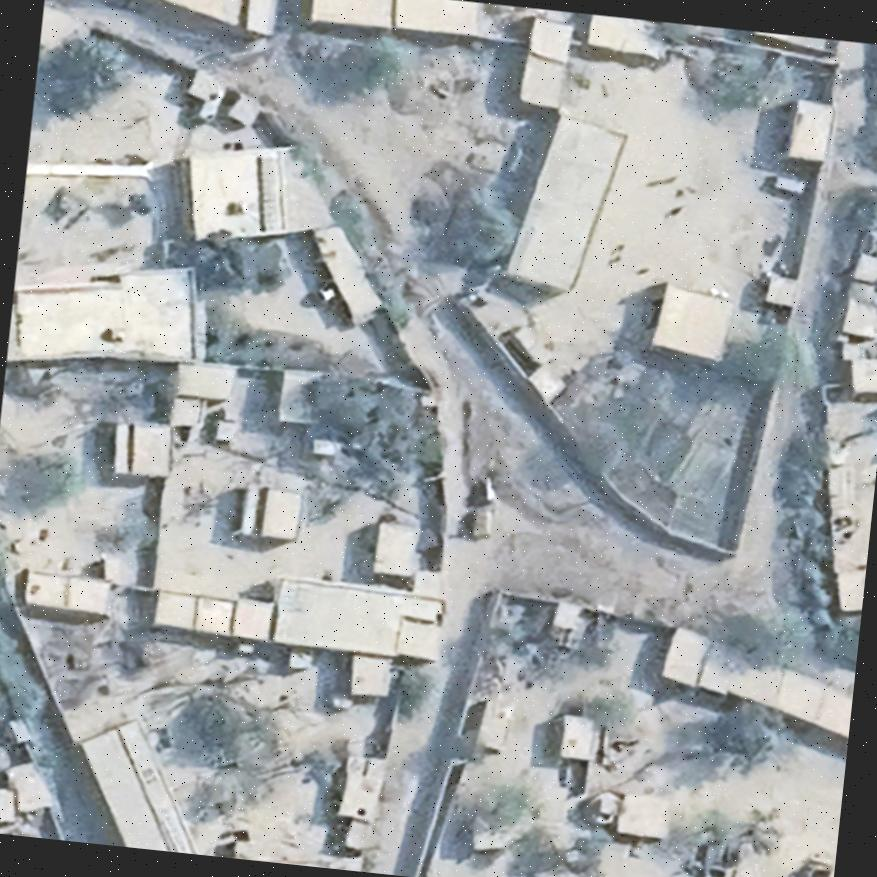Solarpanel: (258, 150, 286, 232)
